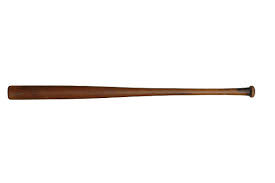bat: (6, 83, 257, 101)
